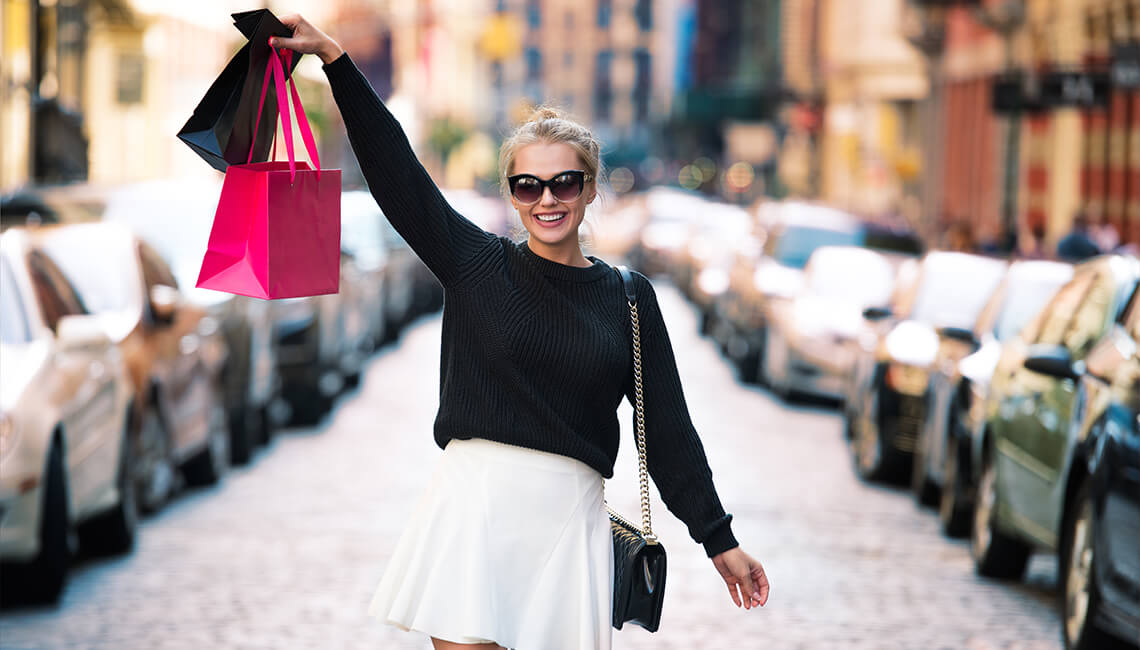Person: (198, 1, 792, 619)
